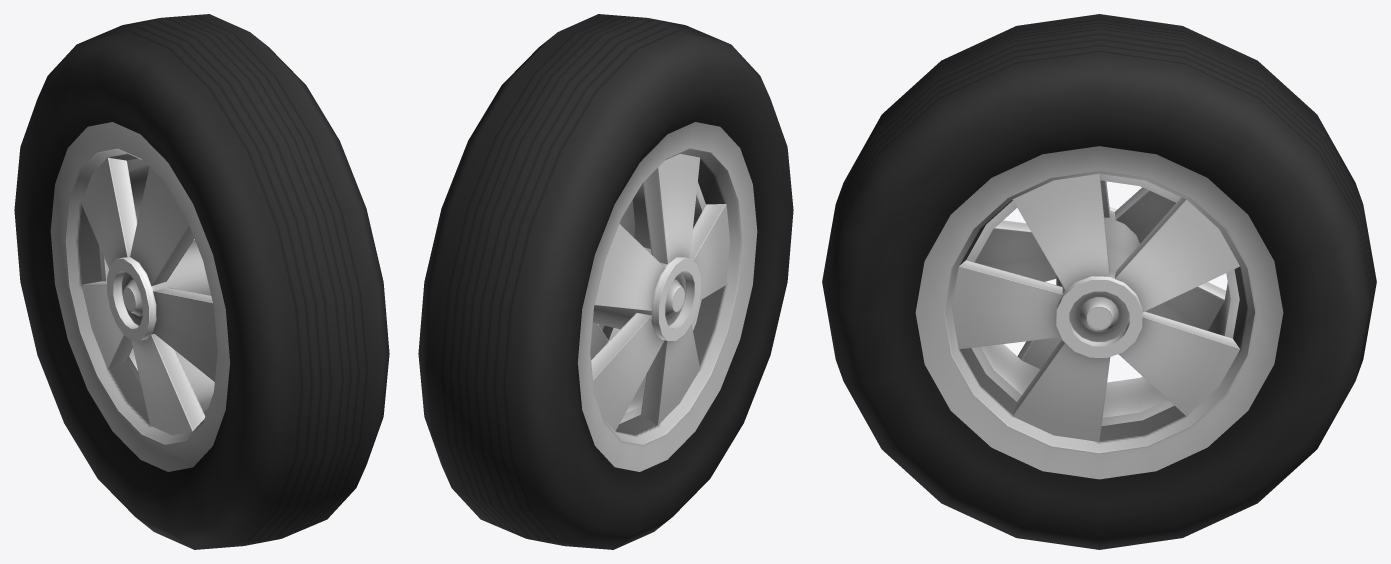
File: NEW WHEEL.FBX
3 renders of one model, left to right at view 1: azimuth 30°, elevation 25°; view 2: azimuth 150°, elevation 25°; view 3: azimuth 270°, elevation 25°, orthographic. The views are drawn at different scales.
Parts seen in each view (by area): view 1: wheel; view 2: wheel; view 3: wheel.
Boxes of the visible parts, <box> form: wheel: <box>14,14,389,549</box>; wheel: <box>418,14,793,549</box>; wheel: <box>822,14,1376,549</box>.
Size of the model in its own units: 13.53 by 42.89 by 42.89.
1 material, 1 textured.
